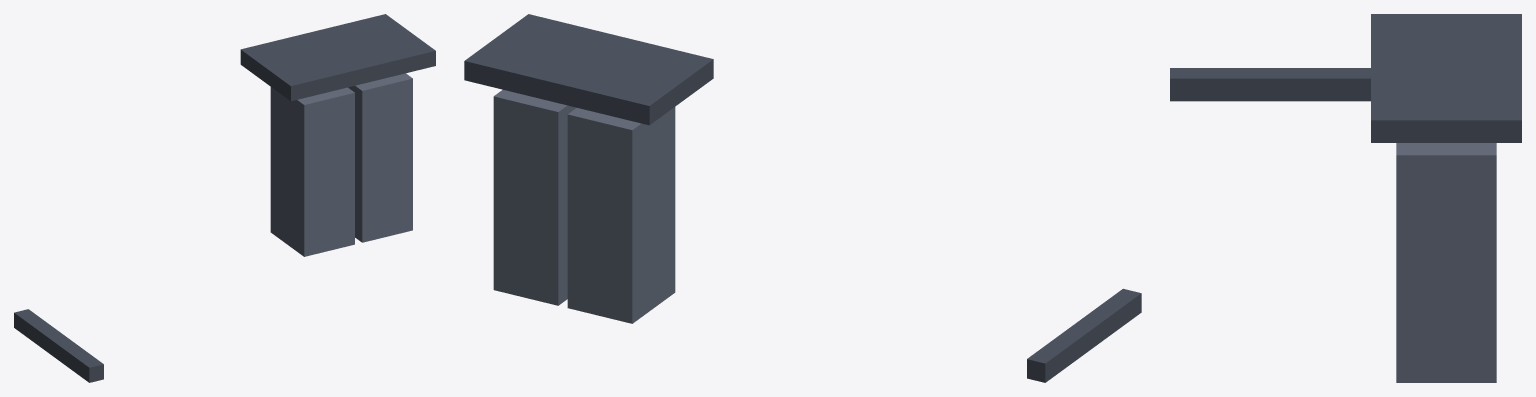
The model's file is antenna_e5_l2.glb.
3 views of the same model, side by side, from view 1: azimuth 30°, elevation 25°; view 2: azimuth 150°, elevation 25°; view 3: azimuth 270°, elevation 25° (orthographic). The views are drawn at different scales.
Visible parts, largest first — view 1: Base; view 2: Base; view 3: Base.
Boxes of the visible parts, x1,y1,x2,y2 form: Base: [14, 14, 435, 382]; Base: [464, 14, 1141, 382]; Base: [1170, 14, 1521, 382].
Size of the model in its own units: 5.7 by 2.4 by 2.8.
